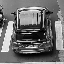motor: (13, 9, 46, 54)
